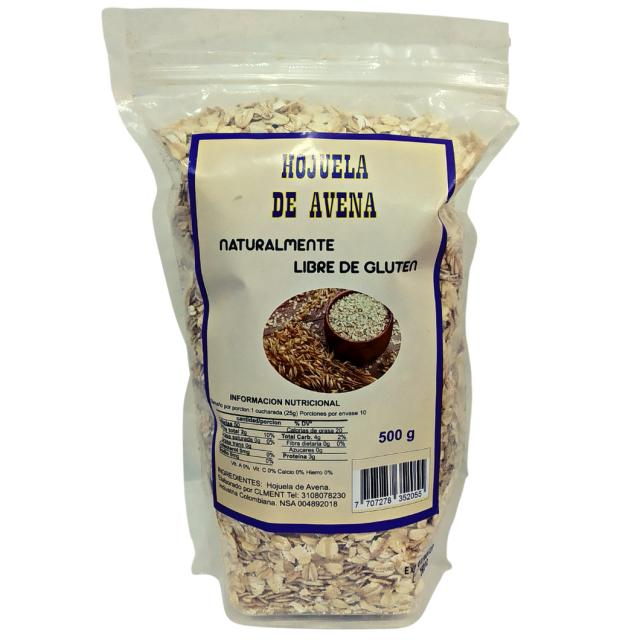avena: (326, 288, 390, 346)
